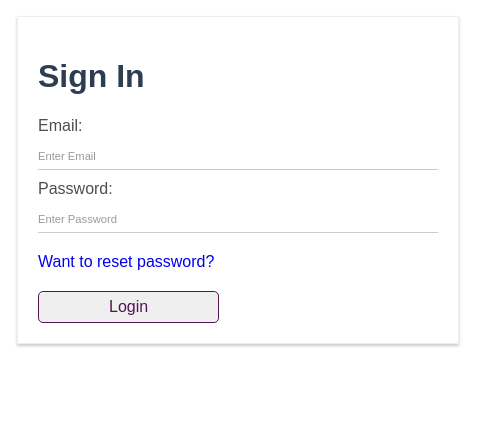
Login.vue › requires valid email
Type "example.com" into the field with id "email" at (238, 155), box [38,141,438,170]
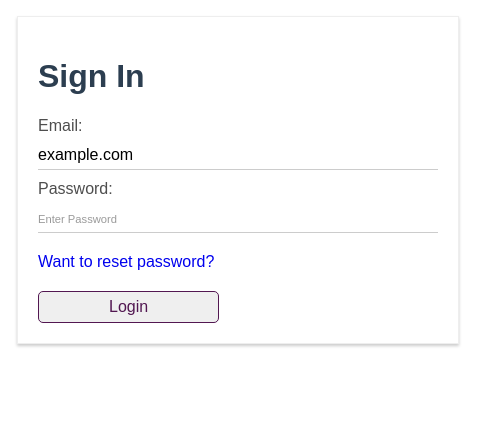
Submit the form, box [38,117,438,323]
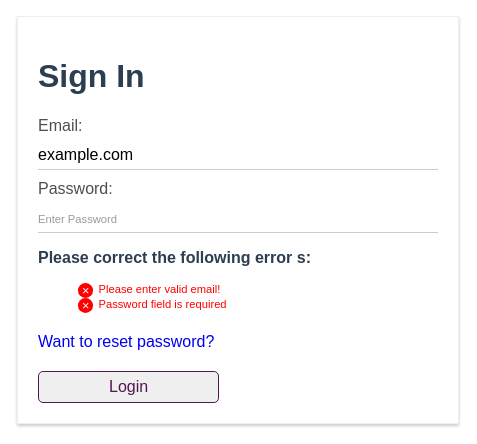
Check: the list item "Please enter valid email!" is shown, box [98,283,220,295]
